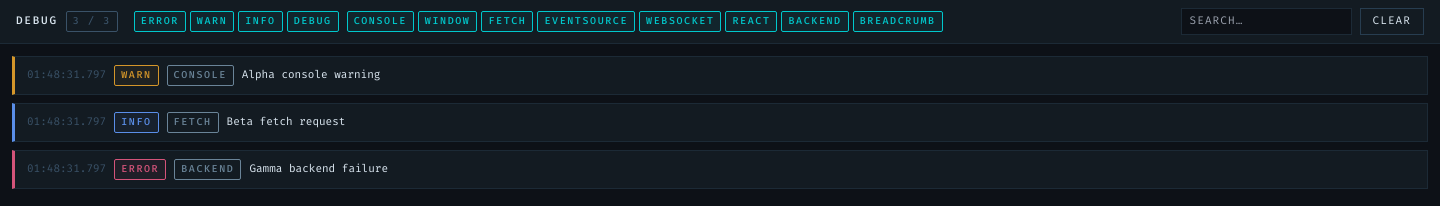
Test case: DebugView › clear empties the store and returns to the empty state
The width and height of the screenshot is (1440, 206).
Click the button with test id "debug-clear". click: coordinates (1392, 21)
box: [1360, 8, 1424, 34]
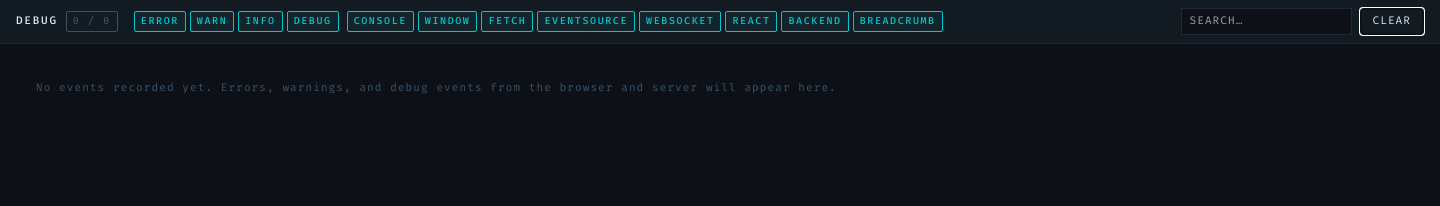
Result: the text with test id "debug-empty" is shown at [36, 80, 837, 94]
Result: the text with test id "debug-view-count" reads "0 / 0" at [66, 11, 118, 32]
